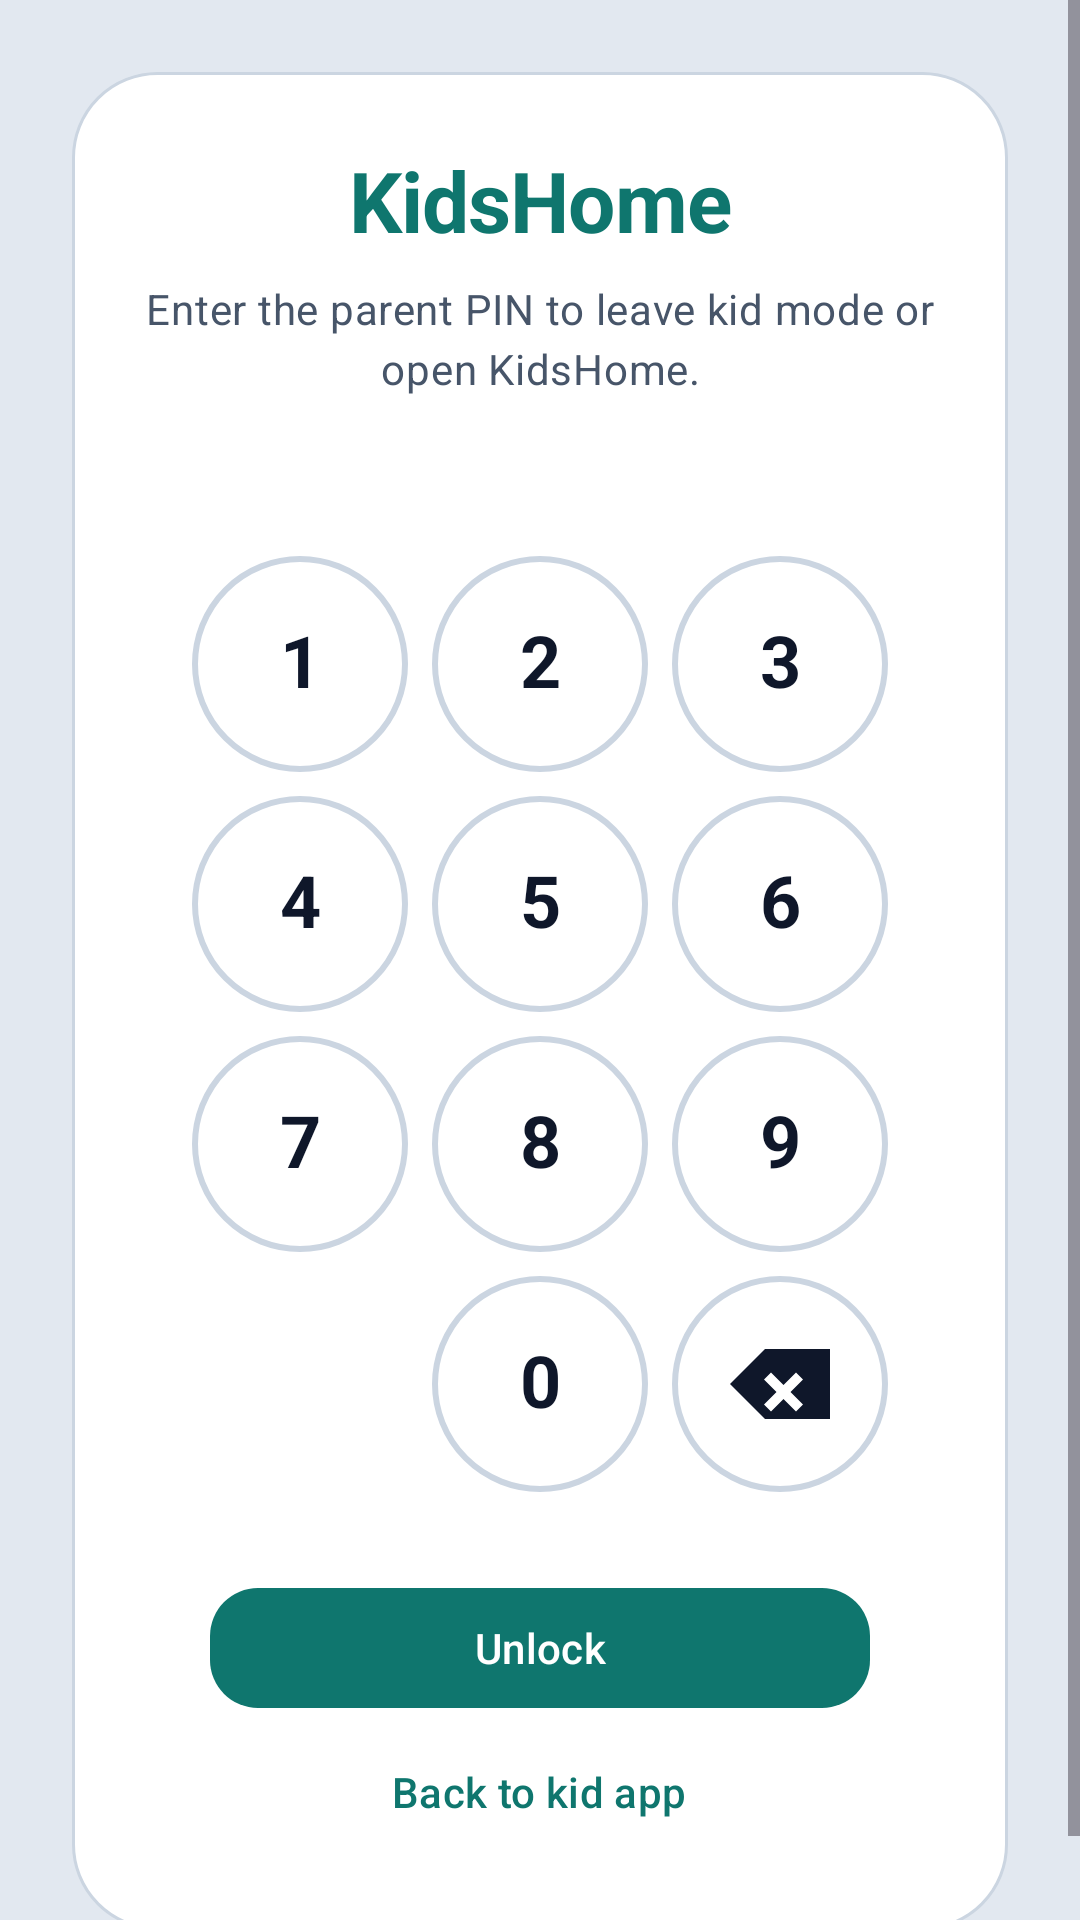

Where icons sit on this 1080w x 1920h app screen, as [x1=x1, y1=y1, x2=x2, y2=y2]:
Delete last digit: [x1=672, y1=1276, x2=888, y2=1492]
